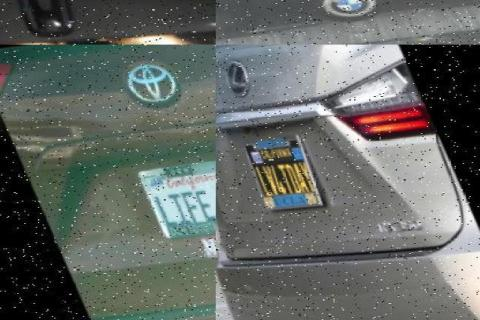LicensePlate: (133, 150, 216, 243), (239, 132, 325, 212), (0, 33, 193, 45)
